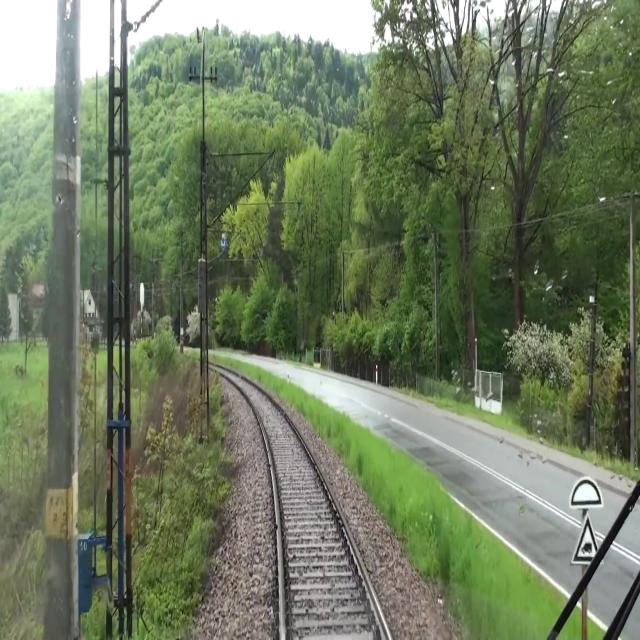rail-track: (227, 373, 387, 639)
